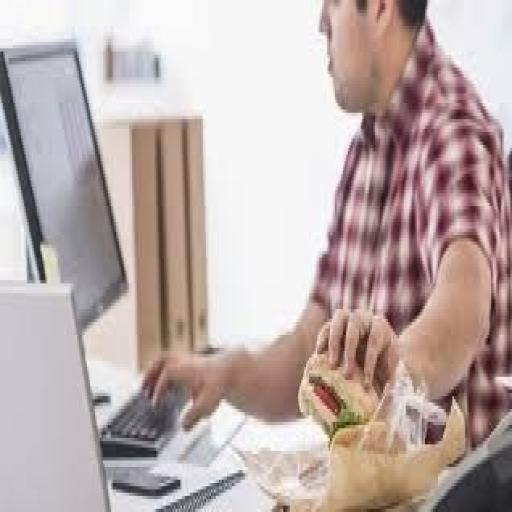eating: (140, 0, 510, 454)
